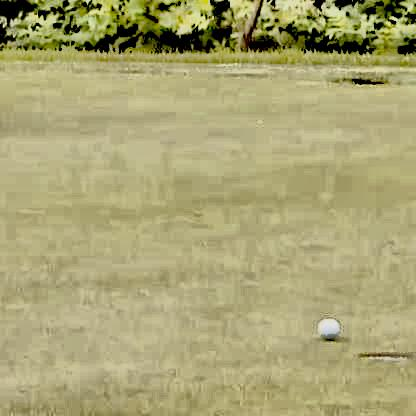golfball: (313, 313, 338, 341)
